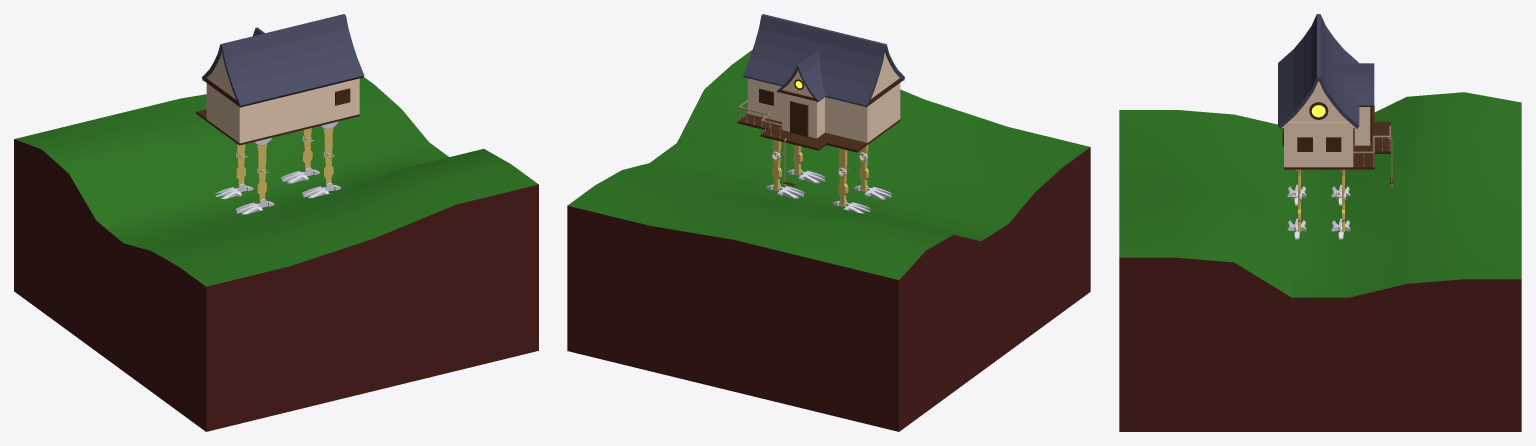
The model's file is WalkingHouse.glb.
3 renders of one model, left to right at view 1: azimuth 30°, elevation 25°; view 2: azimuth 150°, elevation 25°; view 3: azimuth 270°, elevation 25°, orthographic. The views are drawn at different scales.
Visible parts, largest first — view 1: Cube.029, Cube.001, Cube, Cube.005; view 2: Cube.029, Cube.001, Cube, Cube.005, Cube.004, Cube.006; view 3: Cube.029, Cube.001, Cube, Cube.004, Cube.005, Cube.007.
Part boxes in pixels (<box>): Cube.029: <box>14,77,538,431</box>; Cube.001: <box>202,14,364,107</box>; Cube: <box>206,77,359,143</box>; Cube.005: <box>196,109,359,145</box>; Cube.029: <box>567,50,1090,431</box>; Cube.001: <box>743,14,904,107</box>; Cube: <box>747,77,900,142</box>; Cube.005: <box>737,114,900,152</box>; Cube.004: <box>777,51,825,102</box>; Cube.006: <box>790,101,808,136</box>; Cube.029: <box>1119,92,1521,431</box>; Cube.001: <box>1278,14,1359,128</box>; Cube: <box>1284,107,1370,167</box>; Cube.004: <box>1330,63,1374,106</box>; Cube.005: <box>1284,106,1390,169</box>; Cube.007: <box>1297,137,1341,151</box>.
Bounding box in the file's own units: 5.43 × 4.53 × 5.43.
